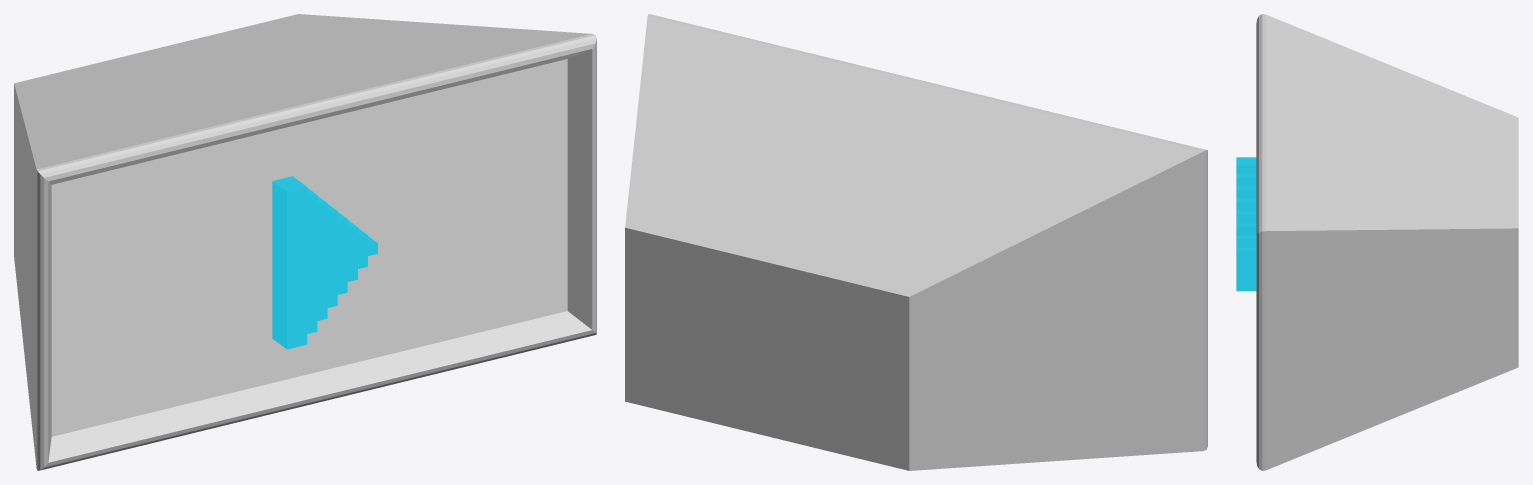
File: play.glb
The picture shows the model from 3 angles, left to right: view 1: azimuth 30°, elevation 25°; view 2: azimuth 150°, elevation 25°; view 3: azimuth 270°, elevation 25°; orthographic projection. The views are drawn at different scales.
Parts seen in each view (by area): view 1: Screen, Cube, Play; view 2: Cube; view 3: Cube, Play.
Part boxes in pixels (left/top/right/bottom): Screen: left=51, top=59, right=567, bottom=436; Cube: left=14, top=14, right=596, bottom=470; Play: left=272, top=176, right=377, bottom=349; Cube: left=625, top=14, right=1207, bottom=470; Cube: left=1256, top=14, right=1518, bottom=470; Play: left=1236, top=157, right=1256, bottom=291.
Size of the model in its own units: 3.93 by 2.01 by 2.15.
